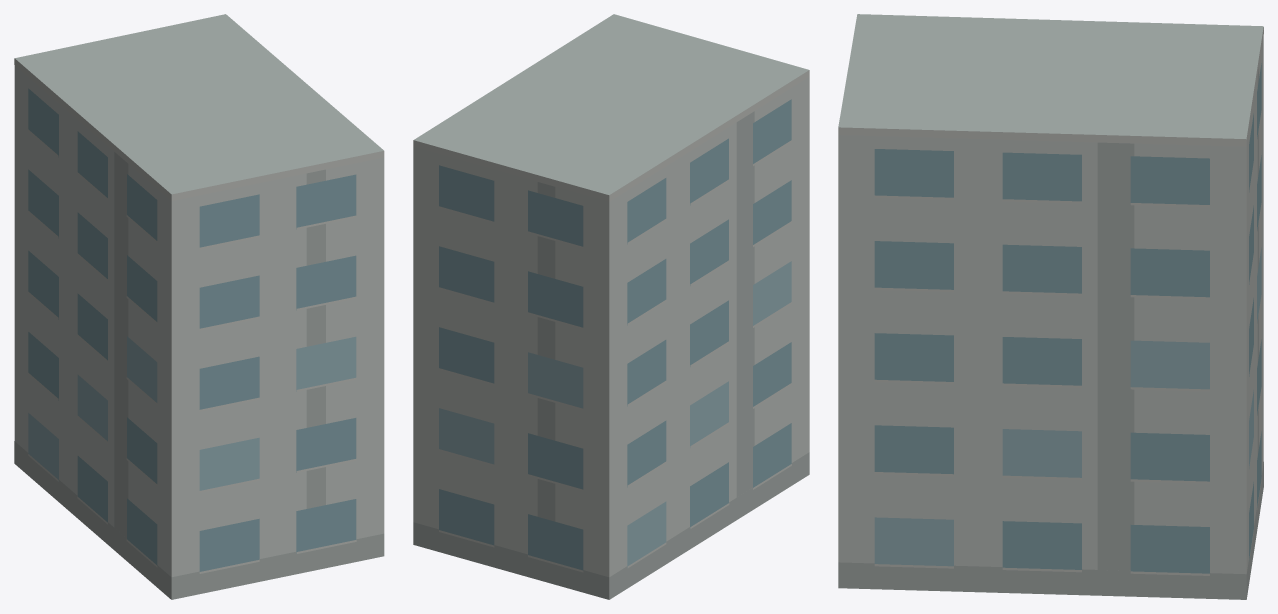
The model's file is survey-upis-33020637.glb.
3 renders of one model, left to right at view 1: azimuth 30°, elevation 25°; view 2: azimuth 150°, elevation 25°; view 3: azimuth 270°, elevation 25°, orthographic. The views are drawn at different scales.
Parts seen in each view (by area): view 1: survey-upis-33020637.tmp; view 2: survey-upis-33020637.tmp; view 3: survey-upis-33020637.tmp.
Boxes of the visible parts, left/top/right/bottom form: survey-upis-33020637.tmp: left=14, top=14, right=384, bottom=599; survey-upis-33020637.tmp: left=413, top=14, right=809, bottom=599; survey-upis-33020637.tmp: left=838, top=14, right=1263, bottom=599.
Bounding box in the file's own units: 8.51 × 14.6 × 12.23.
